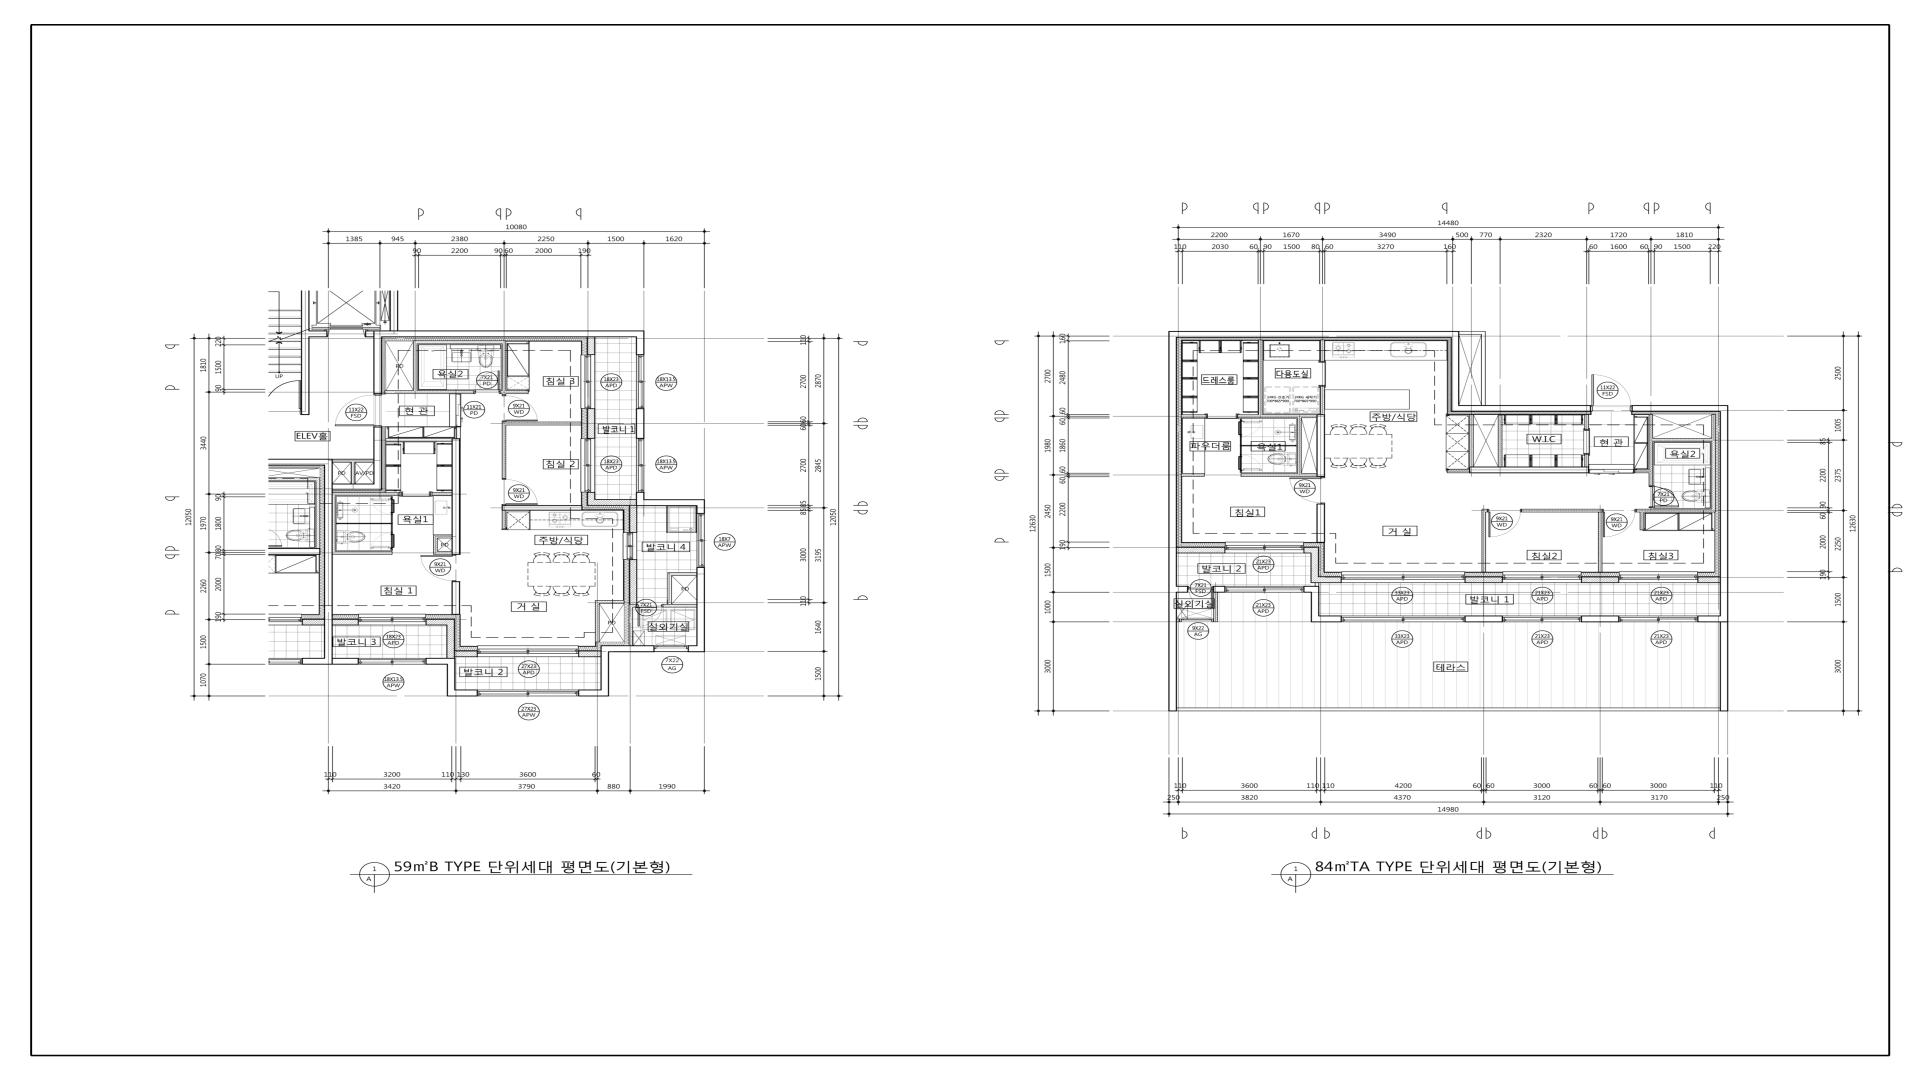door: (335, 394, 382, 427), (1590, 375, 1631, 411), (268, 381, 302, 414), (1487, 509, 1522, 538), (502, 394, 538, 422), (1288, 477, 1325, 504), (501, 479, 538, 505), (1602, 509, 1636, 537), (421, 555, 456, 582), (1648, 485, 1679, 509), (473, 371, 500, 394), (637, 604, 663, 628), (1188, 585, 1213, 608), (1238, 455, 1262, 473), (1238, 419, 1263, 436), (1204, 414, 1240, 419), (1584, 429, 1590, 456), (1319, 360, 1325, 388), (456, 393, 462, 427), (1589, 469, 1634, 473), (400, 492, 433, 497)
wall: (1168, 331, 1176, 622), (381, 330, 636, 338), (1720, 411, 1729, 622), (1176, 331, 1460, 338), (324, 465, 332, 665), (301, 290, 310, 415), (451, 438, 460, 555), (1460, 405, 1590, 411), (1469, 467, 1589, 473), (696, 567, 705, 646), (1451, 338, 1460, 411), (1631, 405, 1729, 411), (1316, 414, 1325, 477), (373, 427, 382, 484), (373, 331, 381, 394), (600, 645, 609, 696), (636, 500, 705, 506), (268, 459, 332, 465), (501, 505, 582, 510), (587, 498, 636, 506), (1712, 414, 1716, 509), (1648, 414, 1654, 485), (1316, 504, 1325, 543), (629, 559, 637, 604), (385, 390, 473, 394), (417, 340, 502, 344), (332, 484, 382, 491), (390, 290, 398, 331), (1176, 547, 1225, 554), (1522, 509, 1602, 513), (1636, 509, 1716, 513), (446, 625, 455, 658), (451, 582, 460, 615), (1240, 414, 1316, 418), (1241, 473, 1316, 477), (609, 645, 654, 651), (1311, 585, 1319, 622), (1258, 340, 1262, 414), (501, 340, 506, 396), (636, 409, 645, 439), (413, 340, 418, 390), (335, 492, 400, 496), (1581, 616, 1619, 622), (1581, 576, 1619, 583), (1465, 576, 1503, 583), (1465, 616, 1503, 622), (332, 492, 336, 554), (587, 409, 595, 439), (1482, 513, 1486, 572), (1598, 513, 1602, 572), (1311, 554, 1319, 583), (1654, 438, 1712, 442), (502, 422, 506, 479), (595, 600, 600, 642), (336, 551, 392, 555), (629, 505, 637, 533), (636, 331, 645, 355), (1298, 418, 1302, 473), (1498, 415, 1502, 467), (1469, 415, 1473, 467), (447, 690, 477, 696), (506, 422, 582, 425), (447, 665, 455, 690), (426, 658, 455, 665), (426, 618, 455, 625), (386, 439, 452, 442), (332, 618, 359, 625), (332, 658, 359, 665), (667, 572, 673, 604), (332, 459, 373, 463), (1697, 616, 1720, 622), (1319, 616, 1341, 622), (1319, 576, 1341, 583), (578, 690, 600, 696), (455, 650, 477, 657), (578, 650, 600, 657), (629, 608, 633, 645), (1242, 444, 1296, 447), (1698, 576, 1720, 583), (1320, 388, 1325, 414), (587, 338, 595, 355), (688, 645, 705, 653), (1213, 592, 1217, 622), (310, 331, 327, 338), (351, 463, 356, 484), (1320, 340, 1325, 360), (433, 534, 438, 554), (1304, 547, 1319, 554), (673, 572, 696, 576), (600, 600, 624, 604), (1182, 473, 1204, 477), (1447, 469, 1469, 473), (506, 390, 529, 394), (1182, 414, 1204, 418), (663, 604, 696, 607), (1178, 585, 1188, 593), (1213, 585, 1225, 592), (433, 492, 452, 496), (1640, 512, 1644, 530), (502, 510, 506, 529), (636, 492, 645, 500), (587, 492, 595, 500), (696, 506, 704, 514), (1635, 469, 1648, 473), (1585, 415, 1589, 429), (438, 534, 451, 538), (365, 331, 373, 338), (1240, 436, 1242, 455), (1304, 585, 1311, 592), (1585, 456, 1589, 467), (456, 427, 460, 438), (438, 551, 451, 554), (629, 604, 637, 608), (1481, 509, 1487, 513), (1176, 618, 1179, 622), (1315, 583, 1319, 585)
window: (1341, 571, 1465, 583), (477, 646, 579, 657), (1225, 542, 1304, 554), (1503, 571, 1581, 583), (1619, 571, 1697, 583), (1341, 616, 1465, 622), (359, 613, 426, 625), (580, 355, 595, 409), (580, 439, 595, 492), (477, 690, 578, 696), (1225, 585, 1304, 592), (1503, 616, 1581, 622), (1619, 616, 1697, 622), (359, 658, 426, 665), (696, 513, 704, 567), (637, 355, 645, 409), (637, 439, 645, 492), (622, 533, 637, 559), (654, 646, 688, 651), (1179, 618, 1213, 622)
